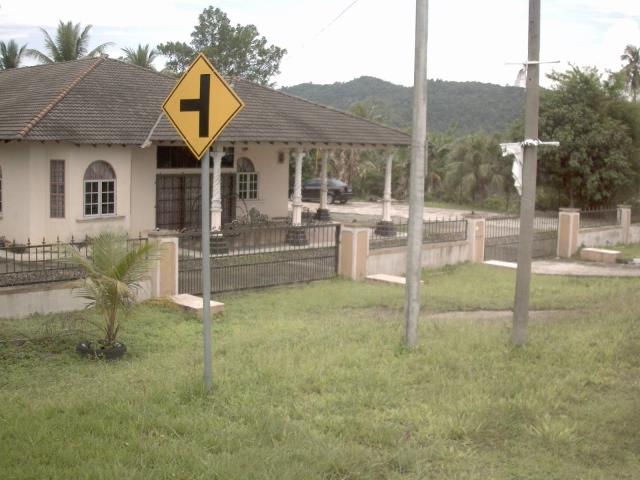traffic_sign: (158, 42, 250, 166)
